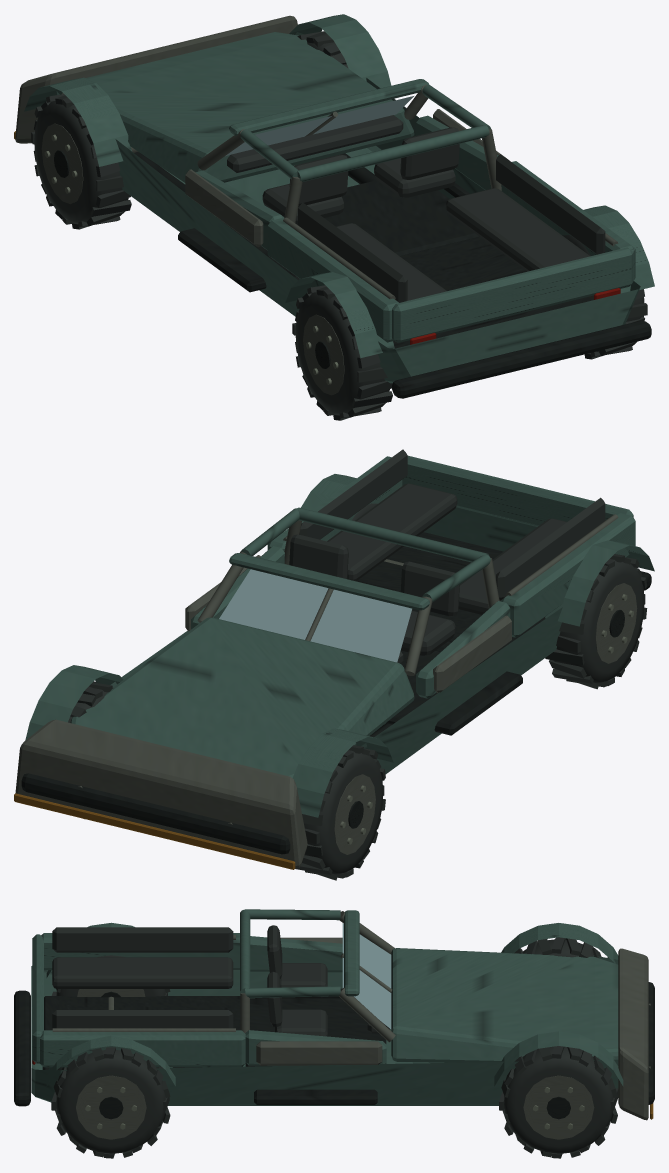
The model's file is convoy-ram.glb.
3 renders of one model, top to bottom at view 1: azimuth 30°, elevation 25°; view 2: azimuth 150°, elevation 25°; view 3: azimuth 270°, elevation 25°, orthographic. The views are drawn at different scales.
Visible parts, largest first — view 1: Chassis, Wheel_RL, Wheel_FL, Wheel_RR, Wheel_FR; view 2: Chassis, Wheel_RL, Wheel_FL, Wheel_FR; view 3: Chassis, Wheel_FR, Wheel_RR, Wheel_FL, Wheel_RL.
Part boxes in pixels (x1,y1,x2,y2): Chassis: (14,14,654,398); Wheel_RL: (292,285,392,420); Wheel_FL: (31,94,131,229); Wheel_RR: (562,235,647,359); Wheel_FR: (297,31,348,68); Chassis: (14,449,654,869); Wheel_RL: (545,554,647,689); Wheel_FL: (296,745,385,880); Wheel_FR: (68,681,113,819); Chassis: (14,909,654,1120); Wheel_FR: (499,1046,618,1158); Wheel_RR: (51,1047,170,1158); Wheel_FL: (514,937,608,958); Wheel_RL: (51,955,170,997).
Bounding box in the file's own units: 2.62 × 1.47 × 5.7.
3 materials, 1 textured.
